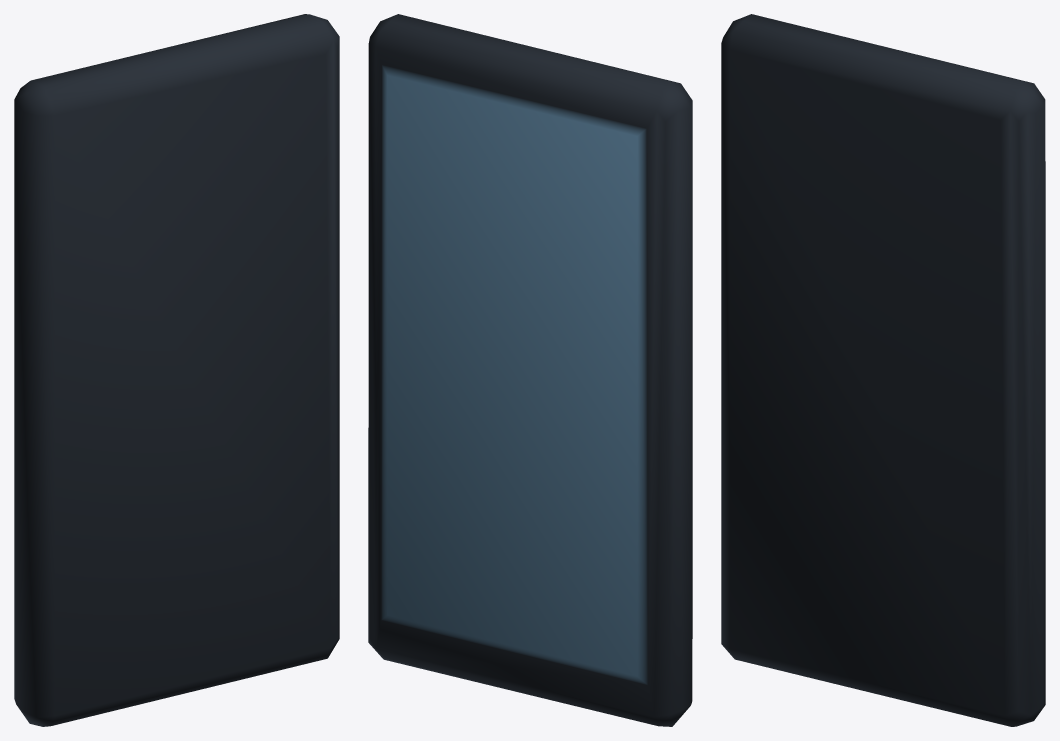
File: dien_thoai.glb
3 views of the same model, side by side, from view 1: azimuth 30°, elevation 25°; view 2: azimuth 150°, elevation 25°; view 3: azimuth 330°, elevation 25° (orthographic).
Visible parts, largest first — view 1: dien_thoai; view 2: dien_thoai; view 3: dien_thoai.
Part boxes in pixels (left/top/right/bottom): dien_thoai: left=14, top=14, right=339, bottom=726; dien_thoai: left=368, top=14, right=692, bottom=726; dien_thoai: left=721, top=14, right=1045, bottom=726.
Size of the model in its own units: 0.08 by 0.156 by 0.015.
